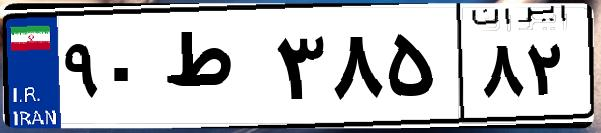0: (110, 28, 158, 98)
2: (525, 38, 570, 115)
3: (270, 28, 330, 110)
5: (385, 28, 445, 110)
8: (330, 28, 385, 110), (475, 38, 525, 113)
9: (57, 26, 110, 100)
ط: (158, 20, 270, 120)
